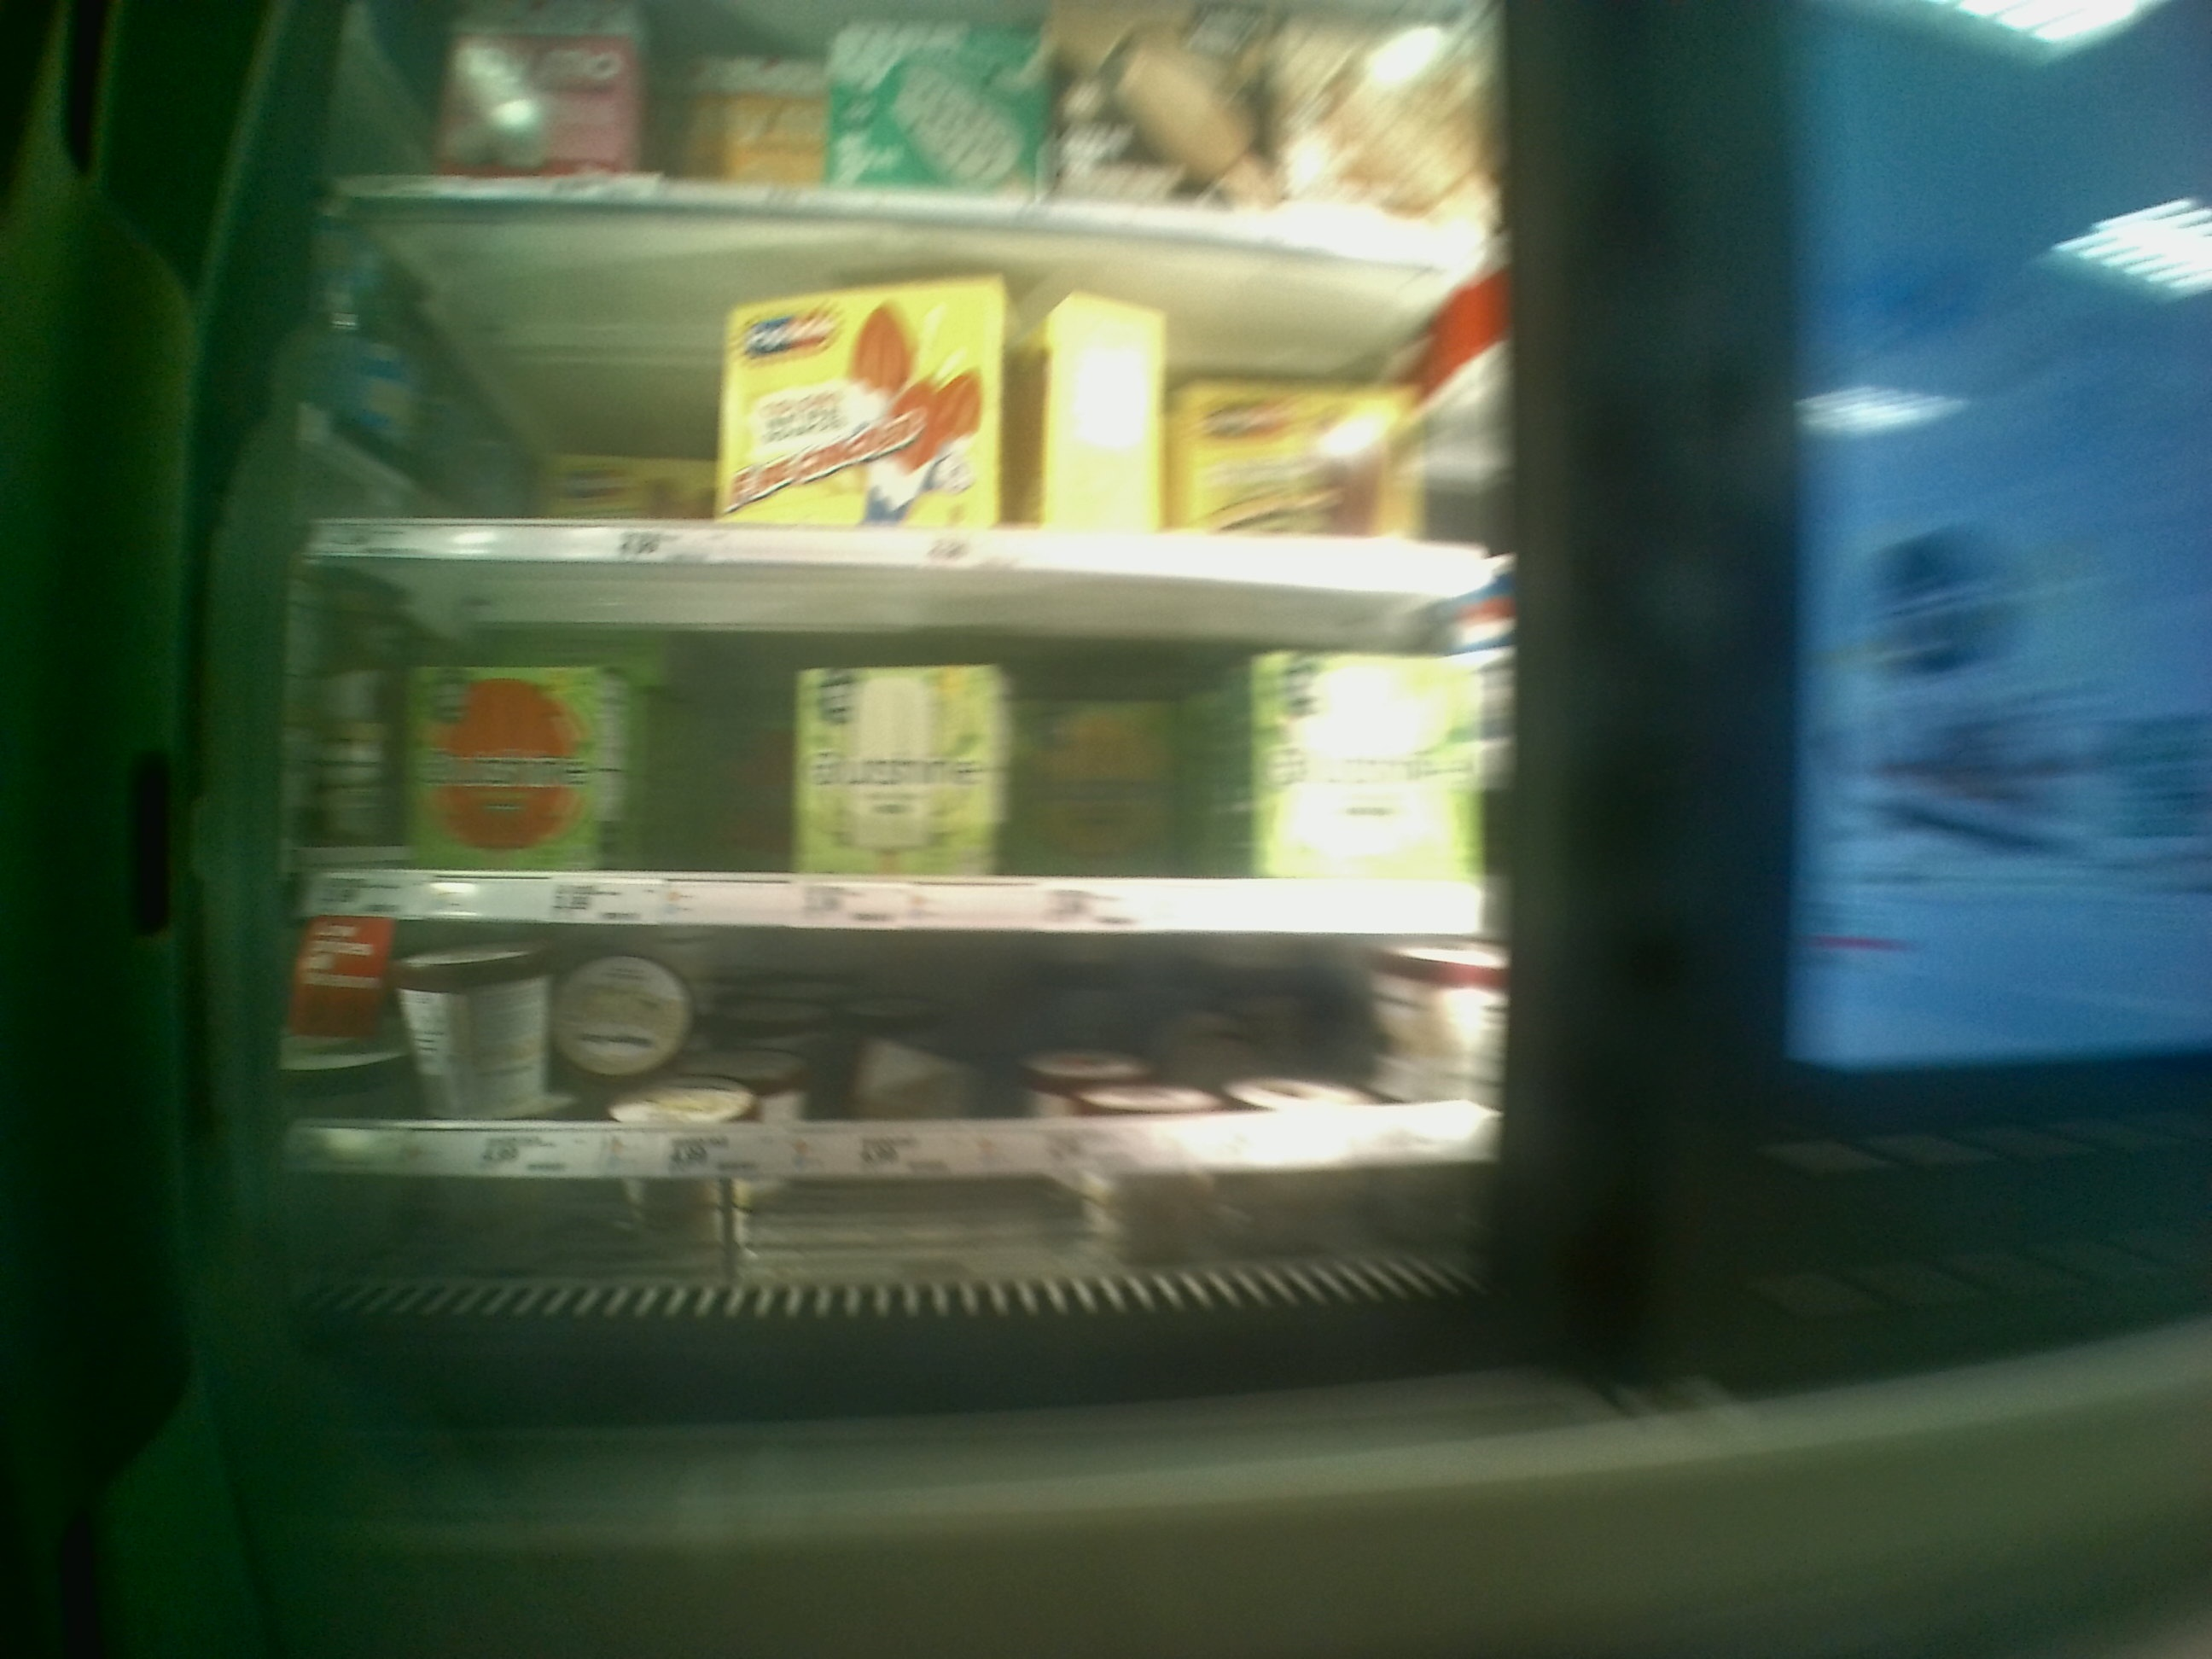shelf: (275, 918, 1505, 1293), (308, 192, 1496, 579), (289, 561, 1501, 932)
